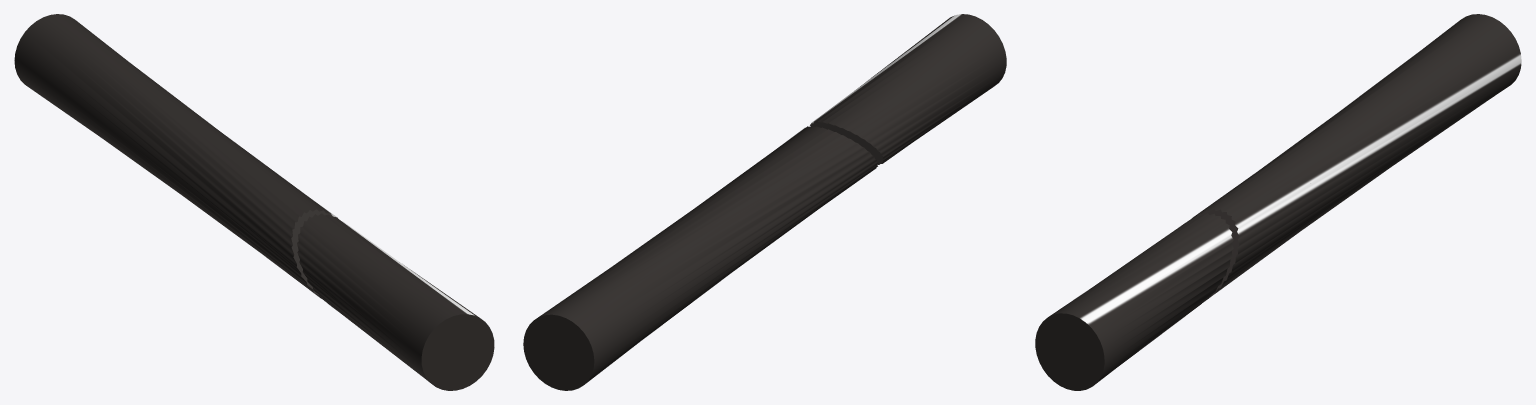
File: barra_danada_45.gltf
The picture shows the model from 3 angles, left to right: view 1: azimuth 30°, elevation 25°; view 2: azimuth 150°, elevation 25°; view 3: azimuth 330°, elevation 25°; orthographic projection.
Parts seen in each view (by area): view 1: Cylinder; view 2: Cylinder; view 3: Cylinder.
Part boxes in pixels (box(x1,y1,x2,y2)): Cylinder: box(14, 14, 494, 390); Cylinder: box(523, 14, 1006, 390); Cylinder: box(1035, 14, 1521, 390).
Bounding box in the file's own units: 1.04 × 1.02 × 10.03.
1 material, 1 textured.
